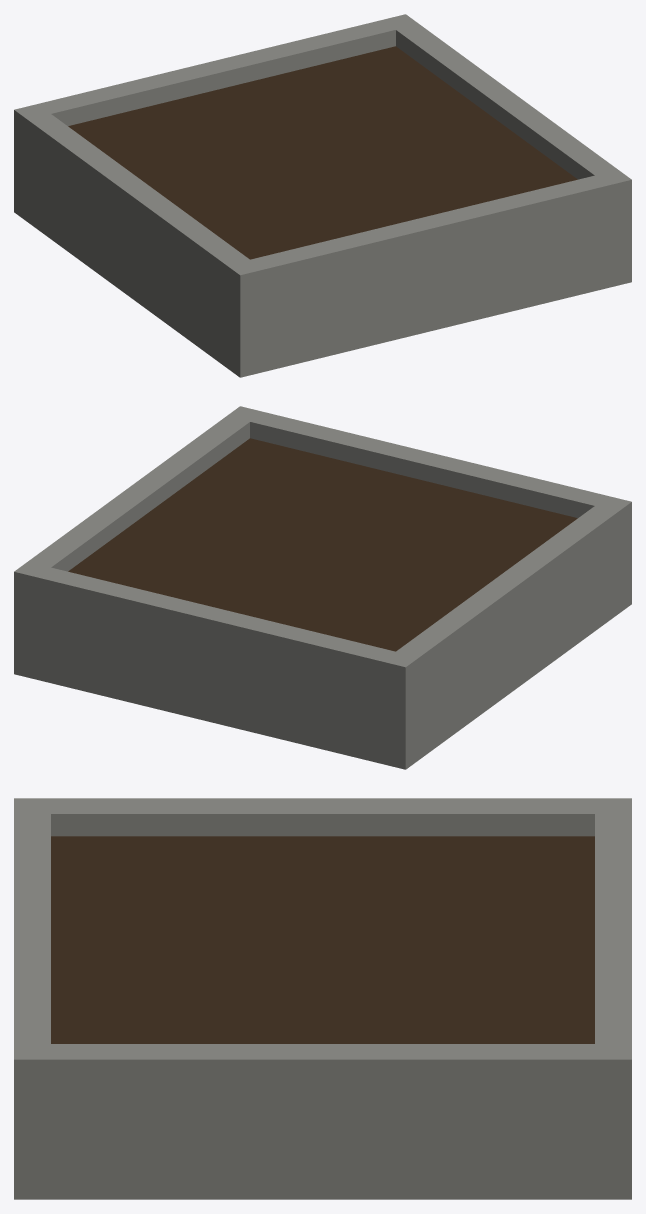
Rendered from ext_flowerbed.glb.
3 views of the same model, one above another, from view 1: azimuth 30°, elevation 25°; view 2: azimuth 150°, elevation 25°; view 3: azimuth 270°, elevation 25° (orthographic). The views are drawn at different scales.
Parts seen in each view (by area): view 1: ext_flowerbed-col; view 2: ext_flowerbed-col; view 3: ext_flowerbed-col.
Part boxes in pixels (x1,y1,x2,y2): ext_flowerbed-col: (14, 14, 631, 377); ext_flowerbed-col: (14, 406, 631, 769); ext_flowerbed-col: (14, 798, 631, 1199).
Size of the model in its own units: 2 by 0.5 by 2.
